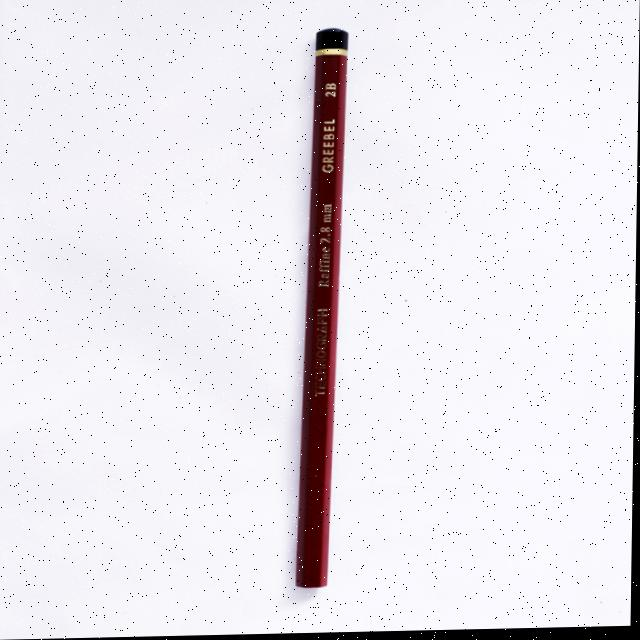pencil: (293, 25, 351, 595)
